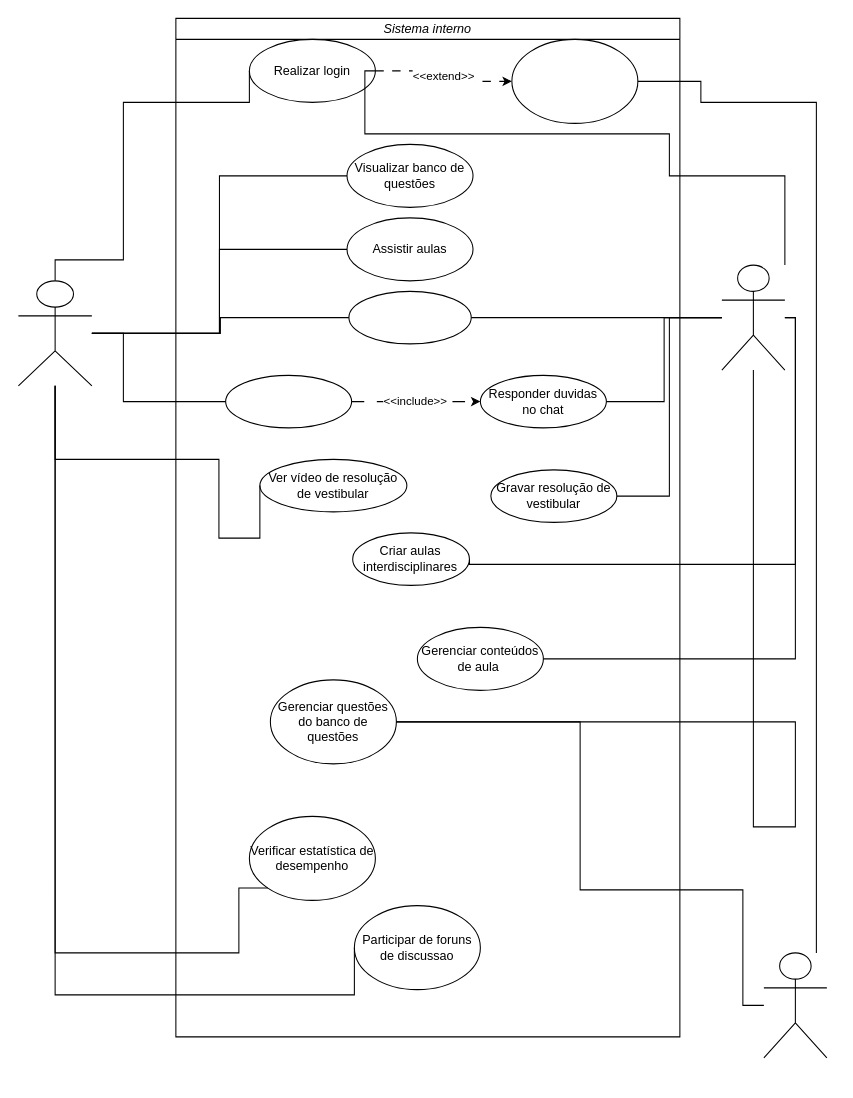
Some shapes in this 853 by 1098 pixel diagram are drawn without their labels. The shapes that lost their labels are listed below. From the top down, each one's centre as x and y in pixels, then its label:
pixel 574 80: Cadastrar usuário
pixel 54 333: Aluno
pixel 409 317: Participar de lives
pixel 753 317: Professor
pixel 288 401: Enviar duvidas no chat
pixel 795 1005: Administrador
